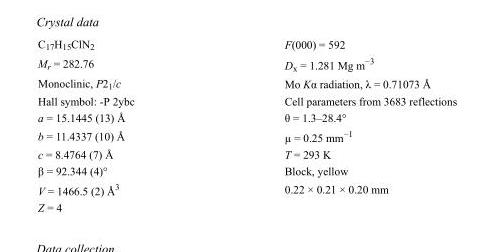table: (37, 37, 456, 213)
table column: (208, 37, 456, 213), (37, 37, 208, 213)
table row: (37, 53, 456, 74), (37, 125, 456, 145), (37, 179, 456, 198), (37, 74, 456, 92), (37, 108, 456, 125), (37, 145, 456, 162), (37, 162, 456, 179), (37, 37, 456, 53), (37, 92, 456, 108), (37, 198, 456, 213)
